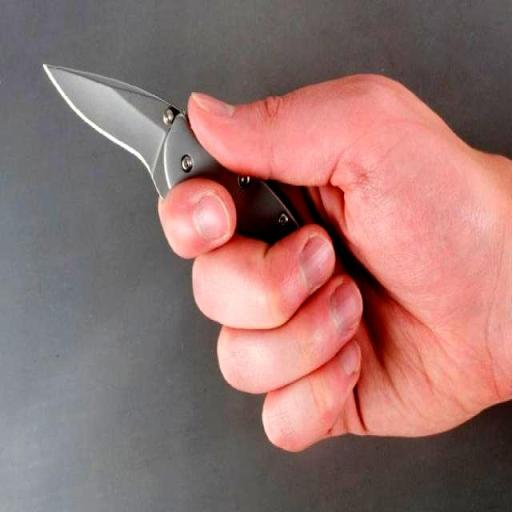knife: (38, 54, 343, 340)
